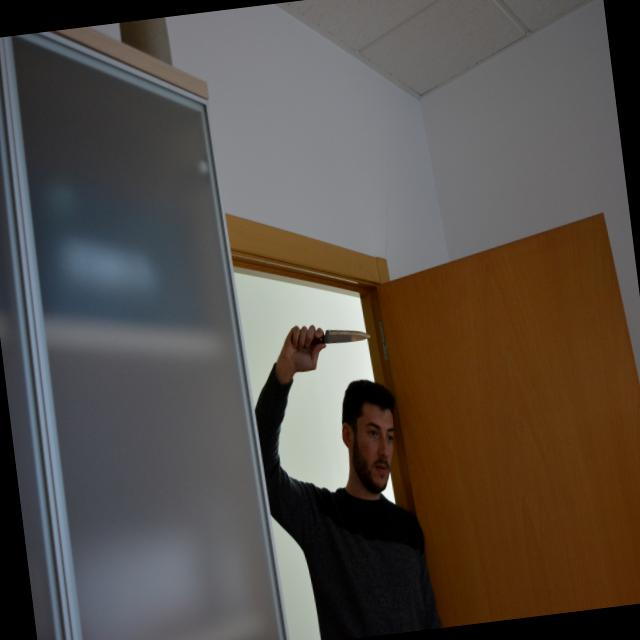knife: (287, 314, 374, 352)
